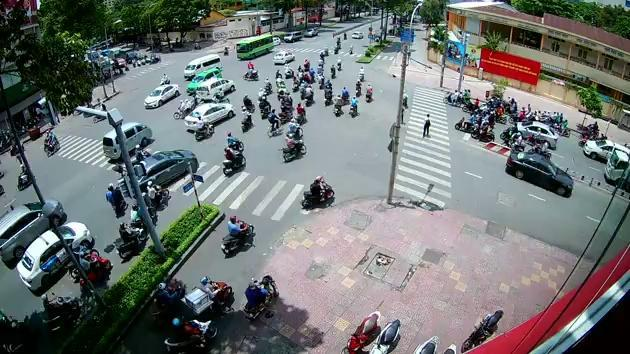xe buyt: (235, 34, 274, 59)
xe dap: (265, 107, 283, 136)
xe hoi: (16, 221, 92, 291), (0, 197, 64, 261), (504, 152, 572, 198), (131, 148, 198, 192), (183, 103, 235, 130), (514, 120, 558, 147), (142, 84, 178, 108), (195, 77, 235, 98)
xe may: (220, 214, 255, 257), (301, 175, 335, 209), (280, 132, 307, 161), (221, 145, 244, 175), (146, 180, 169, 206), (256, 94, 271, 120), (239, 105, 252, 133), (226, 131, 244, 151), (293, 100, 308, 123), (332, 92, 343, 116), (348, 94, 359, 117), (303, 82, 313, 105), (365, 82, 373, 103)
xe van: (101, 122, 151, 158), (182, 54, 221, 78)
